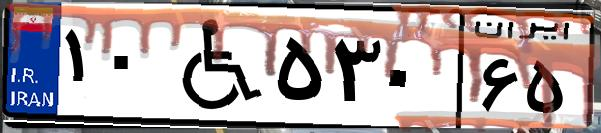0: (385, 28, 445, 110), (110, 28, 158, 98)
1: (57, 26, 110, 100)
3: (330, 28, 385, 110)
5: (270, 28, 330, 110), (525, 38, 570, 115)
6: (475, 38, 525, 113)
ژ (معلولین و جانبازان): (158, 12, 270, 120)
